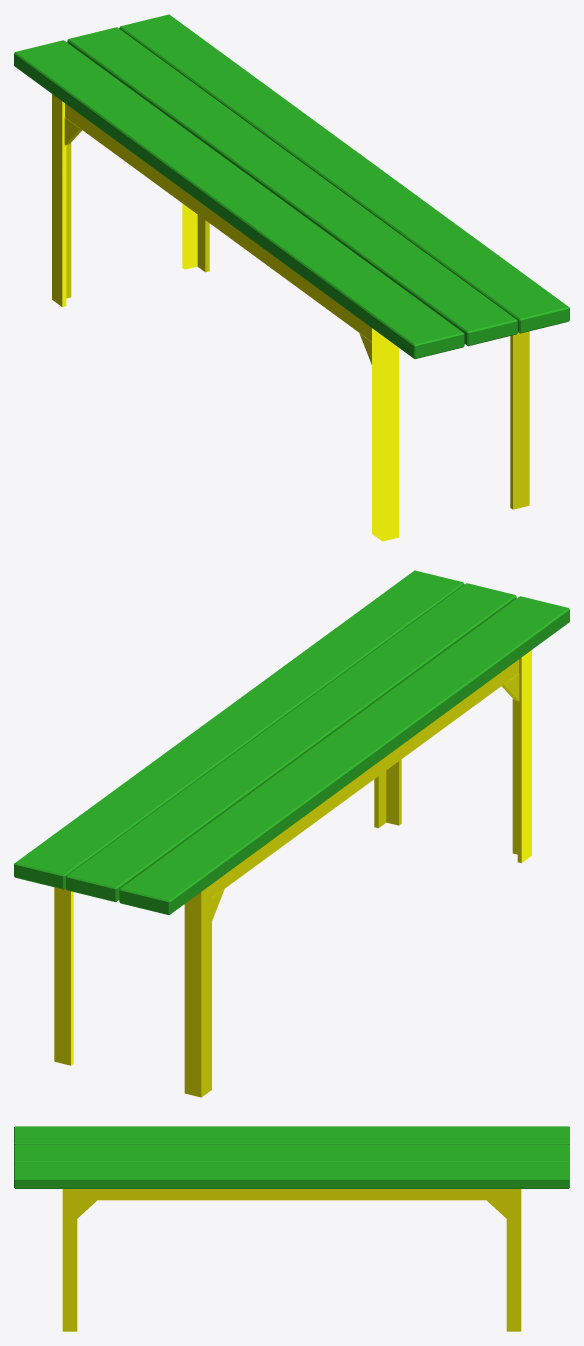
3 views of the same model, one above another, from view 1: azimuth 30°, elevation 25°; view 2: azimuth 150°, elevation 25°; view 3: azimuth 270°, elevation 25° (orthographic). The views are drawn at different scales.
Parts seen in each view (by area): view 1: B_07; view 2: B_07; view 3: B_07.
Boxes of the visible parts, x1,y1,x2,y2 form: B_07: [14, 14, 569, 541]; B_07: [14, 570, 569, 1097]; B_07: [14, 1126, 569, 1331].
Size of the model in its own units: 33 by 44.94 by 146.
